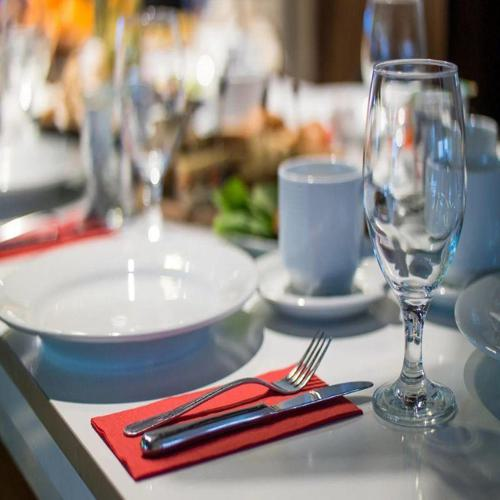copa: (369, 62, 466, 428)
